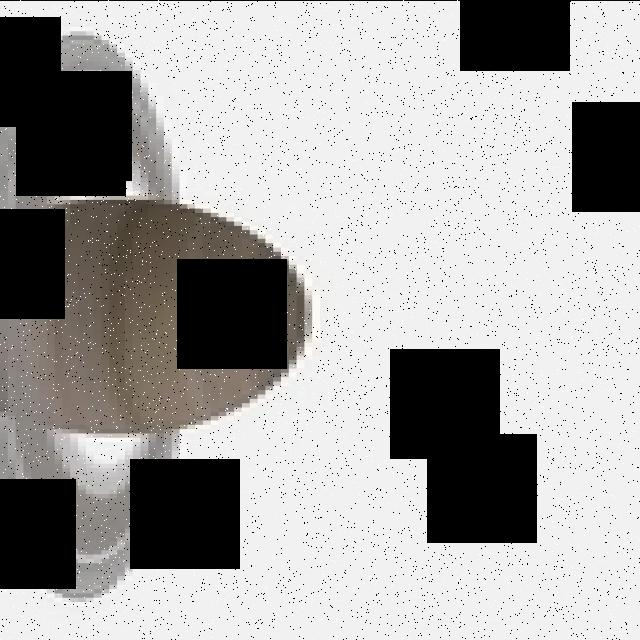Mars: (0, 26, 320, 601)
